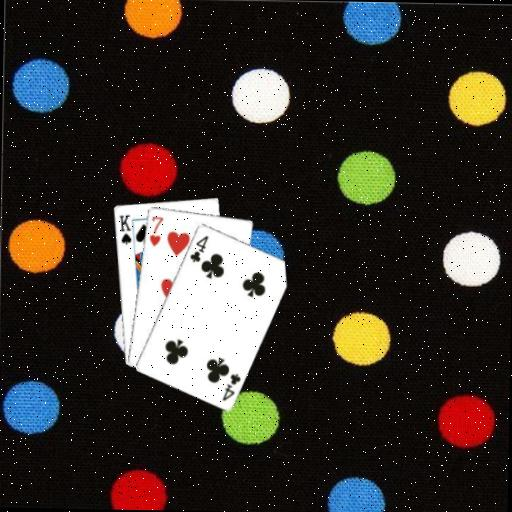4C: (186, 232, 210, 264), (218, 370, 242, 402)
7H: (146, 213, 165, 248)
KS: (115, 211, 133, 246)
